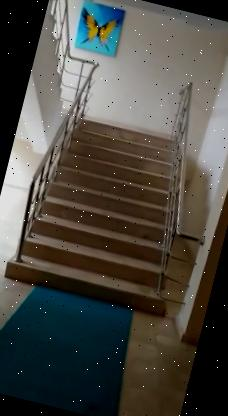stair: (0, 98, 214, 325)
